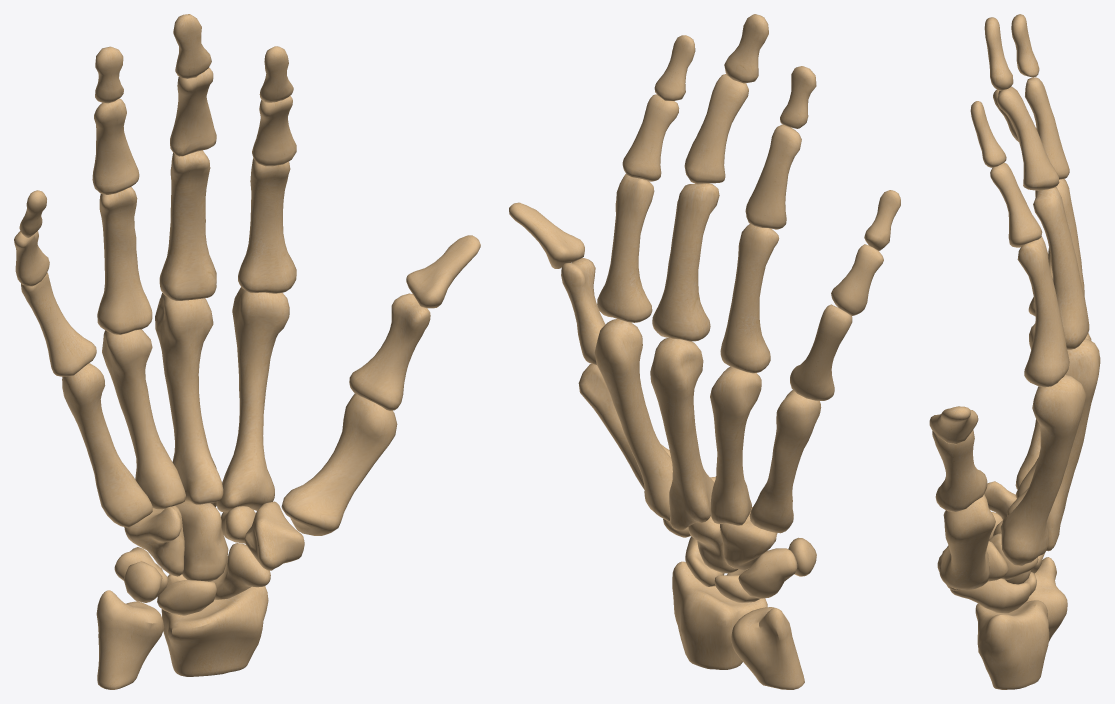
3 renders of one model, left to right at view 1: azimuth 30°, elevation 25°; view 2: azimuth 150°, elevation 25°; view 3: azimuth 270°, elevation 25°, orthographic. The views are drawn at different scales.
Parts seen in each view (by area): view 1: Retopo_2nd Metacarpal_9, Retopo_3rd Metacarpal_13, Retopo_1st Metacarpal_5, Retopo_Radius_32, Retopo_4th Metacarpal_17, Retopo_3rd Proximal Phalanx_15, Retopo_5th Metacarpal_21, Retopo_4th Proximal Phalanx_19, Retopo_2nd Proximal Phalanx_11, Retopo_Ulna_31, Retopo_1st Proximal Phalanx_7, Retopo_5th Proximal Phalanx_22 (+17 smaller); view 2: Retopo_3rd Metacarpal_13, Retopo_2nd Metacarpal_9, Retopo_3rd Proximal Phalanx_15, Retopo_4th Metacarpal_17, Retopo_Radius_32, Retopo_2nd Proximal Phalanx_11, Retopo_4th Proximal Phalanx_19, Retopo_5th Metacarpal_21, Retopo_Ulna_31, Retopo_2nd Middle Plalanx_10, Retopo_3rd Middle Plalanx_14, Retopo_5th Proximal Phalanx_22 (+15 smaller); view 3: Retopo_2nd Metacarpal_9, Retopo_Radius_32, Retopo_2nd Proximal Phalanx_11, Retopo_3rd Proximal Phalanx_15, Retopo_1st Metacarpal_5, Retopo_3rd Metacarpal_13, Retopo_1st Proximal Phalanx_7, Retopo_2nd Middle Plalanx_10, Retopo_1st Middle Plalanx_6, Retopo_3rd Middle Plalanx_14, Retopo_Scaphoid_27, Retopo_Ulna_31 (+10 smaller).
Part boxes in pixels (bbox=[...]): Retopo_2nd Metacarpal_9: bbox=[216, 287, 289, 512]; Retopo_3rd Metacarpal_13: bbox=[155, 293, 223, 507]; Retopo_1st Metacarpal_5: bbox=[281, 393, 397, 535]; Retopo_Radius_32: bbox=[161, 586, 268, 676]; Retopo_4th Metacarpal_17: bbox=[102, 329, 185, 509]; Retopo_3rd Proximal Phalanx_15: bbox=[159, 150, 216, 300]; Retopo_5th Metacarpal_21: bbox=[62, 363, 152, 527]; Retopo_4th Proximal Phalanx_19: bbox=[97, 187, 152, 334]; Retopo_2nd Proximal Phalanx_11: bbox=[238, 158, 296, 293]; Retopo_Ulna_31: bbox=[96, 590, 164, 689]; Retopo_1st Proximal Phalanx_7: bbox=[349, 293, 430, 410]; Retopo_5th Proximal Phalanx_22: bbox=[21, 272, 96, 376]; Retopo_3rd Metacarpal_13: bbox=[650, 337, 714, 530]; Retopo_2nd Metacarpal_9: bbox=[594, 319, 672, 521]; Retopo_3rd Proximal Phalanx_15: bbox=[652, 183, 719, 341]; Retopo_4th Metacarpal_17: bbox=[710, 366, 761, 525]; Retopo_Radius_32: bbox=[672, 561, 767, 669]; Retopo_2nd Proximal Phalanx_11: bbox=[597, 174, 654, 322]; Retopo_4th Proximal Phalanx_19: bbox=[720, 224, 779, 373]; Retopo_5th Metacarpal_21: bbox=[749, 390, 821, 533]; Retopo_Ulna_31: bbox=[731, 607, 804, 689]; Retopo_2nd Middle Plalanx_10: bbox=[684, 74, 748, 184]; Retopo_3rd Middle Plalanx_14: bbox=[745, 124, 801, 229]; Retopo_5th Proximal Phalanx_22: bbox=[790, 304, 852, 400]; Retopo_2nd Metacarpal_9: bbox=[1000, 374, 1086, 566]; Retopo_Radius_32: bbox=[975, 600, 1049, 689]; Retopo_2nd Proximal Phalanx_11: bbox=[1017, 236, 1069, 387]; Retopo_3rd Proximal Phalanx_15: bbox=[1033, 187, 1089, 349]; Retopo_1st Metacarpal_5: bbox=[939, 494, 995, 590]; Retopo_3rd Metacarpal_13: bbox=[1007, 338, 1100, 551]; Retopo_1st Proximal Phalanx_7: bbox=[932, 430, 987, 511]; Retopo_2nd Middle Plalanx_10: bbox=[997, 86, 1059, 190]; Retopo_1st Middle Plalanx_6: bbox=[990, 162, 1042, 247]; Retopo_3rd Middle Plalanx_14: bbox=[1025, 77, 1069, 179]; Retopo_Scaphoid_27: bbox=[950, 579, 1030, 613]; Retopo_Ulna_31: bbox=[1025, 557, 1067, 641].
Size of the model in its own units: 0.1408 by 0.2107 by 0.0507.
7 materials, 7 textured.
